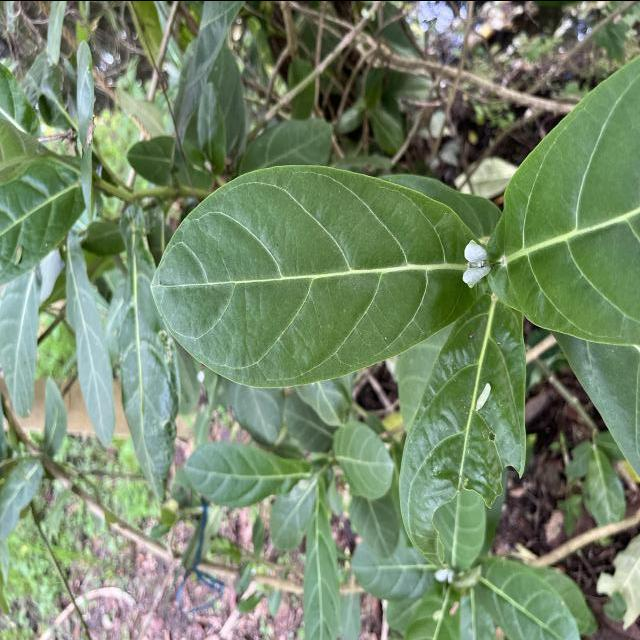Calotropis gigantea: (147, 162, 490, 390), (476, 555, 584, 640), (182, 438, 298, 509), (302, 473, 340, 640), (331, 421, 396, 498)
